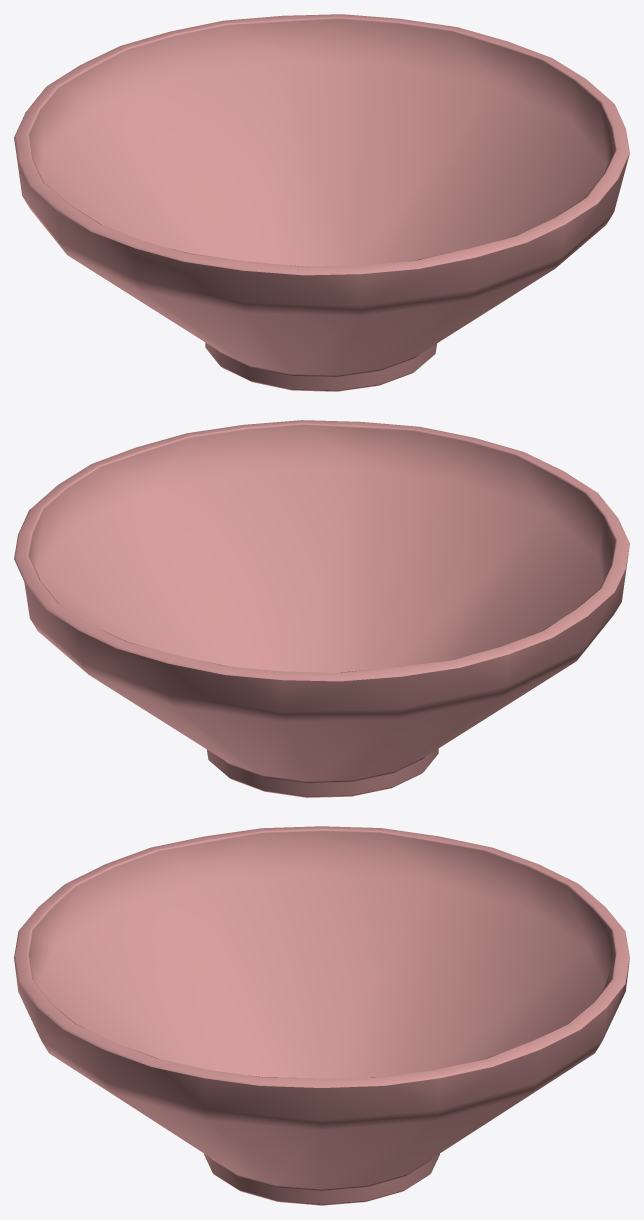
Rendered from Bowl02.fbx.
3 views of the same model, one above another, from view 1: azimuth 30°, elevation 25°; view 2: azimuth 150°, elevation 25°; view 3: azimuth 270°, elevation 25° (orthographic).
Parts seen in each view (by area): view 1: Bowl02_Modelling_v001:Bowl_Body; view 2: Bowl02_Modelling_v001:Bowl_Body; view 3: Bowl02_Modelling_v001:Bowl_Body.
Boxes of the visible parts, left/top/right/bottom form: Bowl02_Modelling_v001:Bowl_Body: left=14, top=14, right=629, bottom=391; Bowl02_Modelling_v001:Bowl_Body: left=14, top=420, right=629, bottom=797; Bowl02_Modelling_v001:Bowl_Body: left=14, top=826, right=629, bottom=1205.
Bounding box in the file's own units: 20.02 × 7.3 × 20.02.
1 material, 1 textured.
